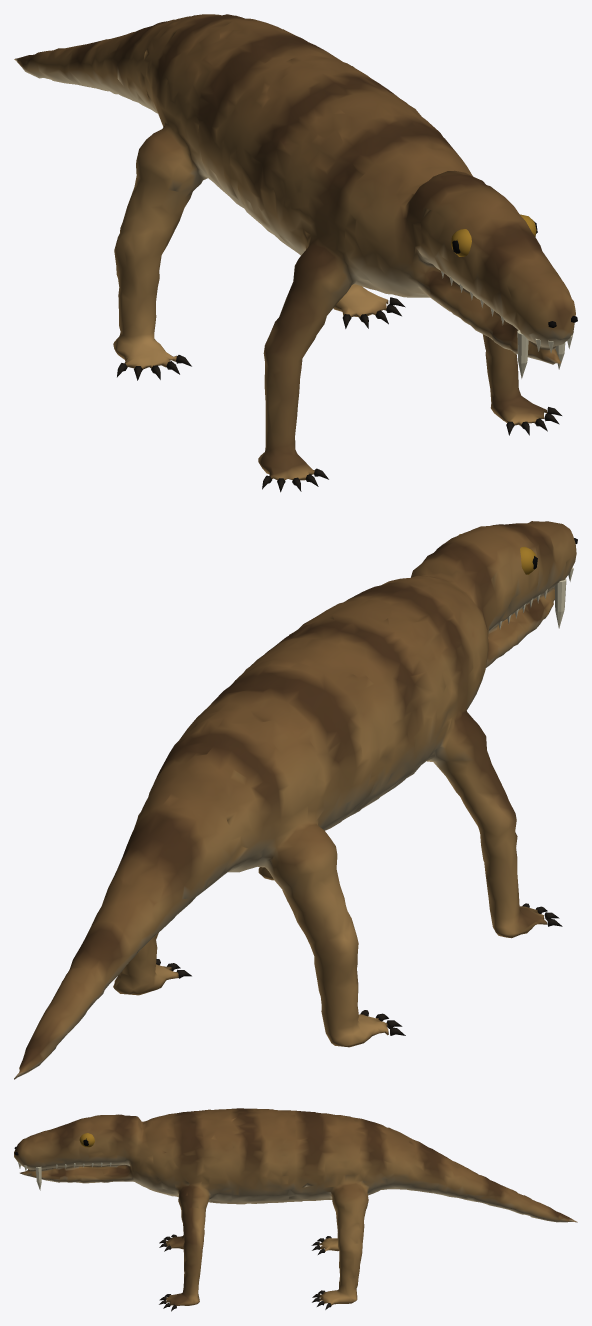
Rendered from Biarmosuchus.fbx.
3 views of the same model, one above another, from view 1: azimuth 30°, elevation 25°; view 2: azimuth 150°, elevation 25°; view 3: azimuth 270°, elevation 25° (orthographic). The views are drawn at different scales.
Visible parts, largest first — view 1: Biarmosuchus; view 2: Biarmosuchus; view 3: Biarmosuchus.
Part boxes in pixels (x1,y1,x2,y2): Biarmosuchus: [14, 14, 577, 492]; Biarmosuchus: [14, 521, 577, 1079]; Biarmosuchus: [14, 1108, 577, 1311].
Bounding box in the file's own units: 0.4524 × 0.458 × 1.44.
